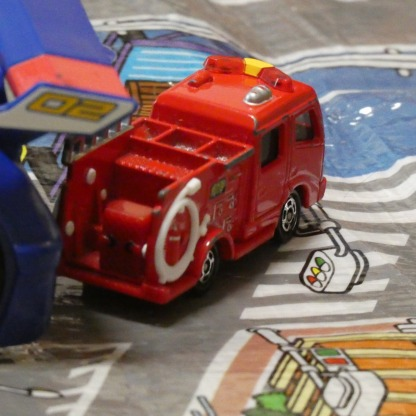car: (52, 53, 330, 298)
